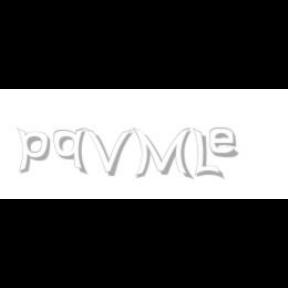L: (193, 128, 221, 180)
M: (132, 128, 192, 180)
V: (85, 128, 133, 176)
e: (210, 128, 242, 158)
p: (16, 128, 54, 174)
q: (53, 128, 89, 176)
